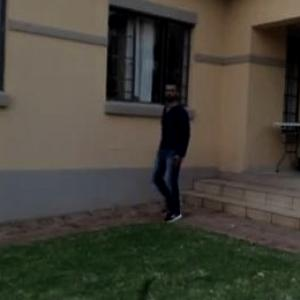follow: (152, 88, 181, 188)
